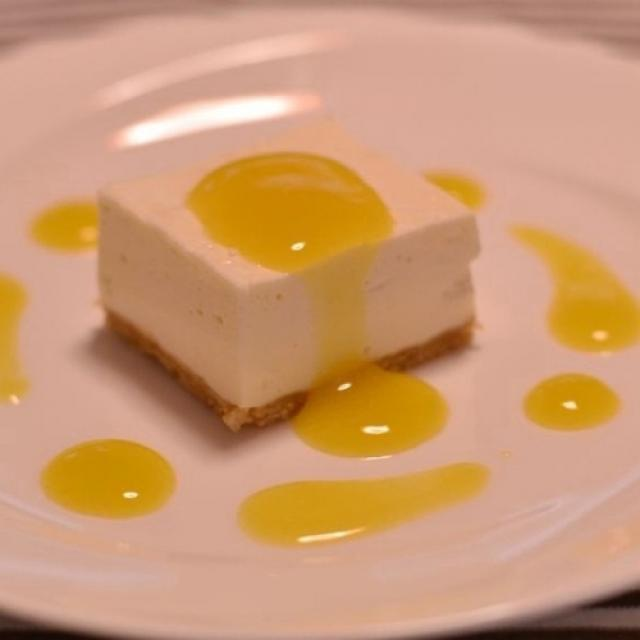Rare cheese cake: (68, 106, 538, 456)
